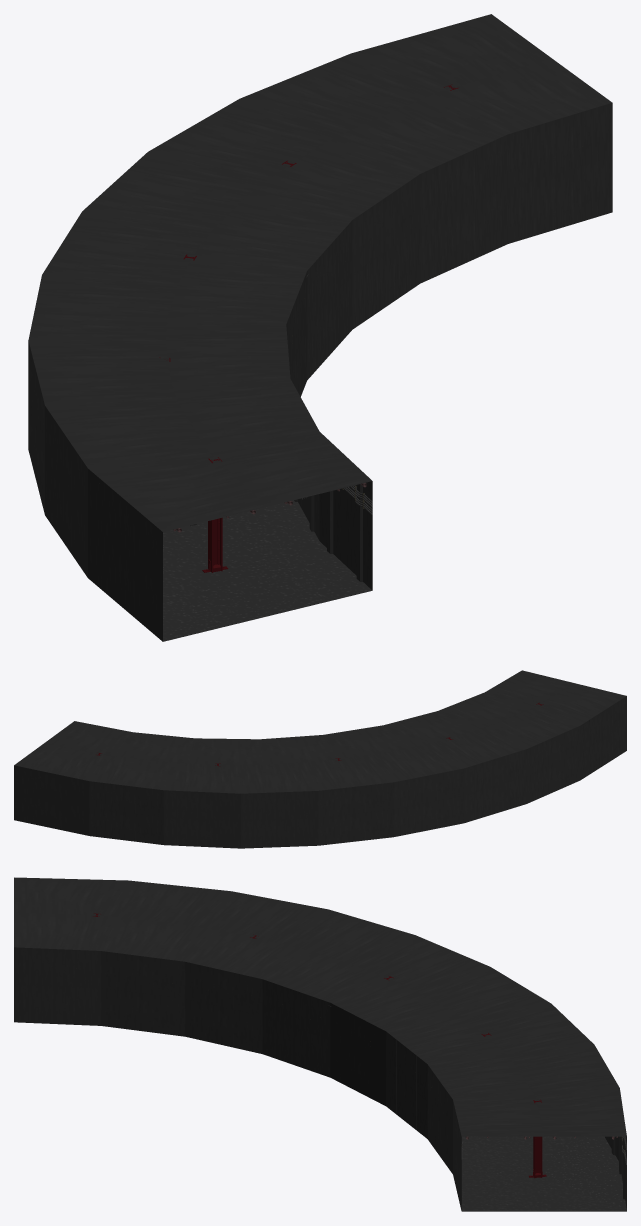
Rendered from SW_ENV_RailTunnelBend_DoubleRight_FF.fbx.
The picture shows the model from 3 angles, top to bottom: view 1: azimuth 30°, elevation 25°; view 2: azimuth 150°, elevation 25°; view 3: azimuth 270°, elevation 25°; orthographic projection. The views are drawn at different scales.
Visible parts, largest first — view 1: SW_ENV_RailTunnelBend_DoubleRight_FF; view 2: SW_ENV_RailTunnelBend_DoubleRight_FF; view 3: SW_ENV_RailTunnelBend_DoubleRight_FF.
Part boxes in pixels (x1,y1,x2,y2): SW_ENV_RailTunnelBend_DoubleRight_FF: (28, 14, 612, 641); SW_ENV_RailTunnelBend_DoubleRight_FF: (14, 670, 626, 848); SW_ENV_RailTunnelBend_DoubleRight_FF: (14, 877, 626, 1211).
Bounding box in the file's own units: 31.5 × 4.25 × 31.5.
